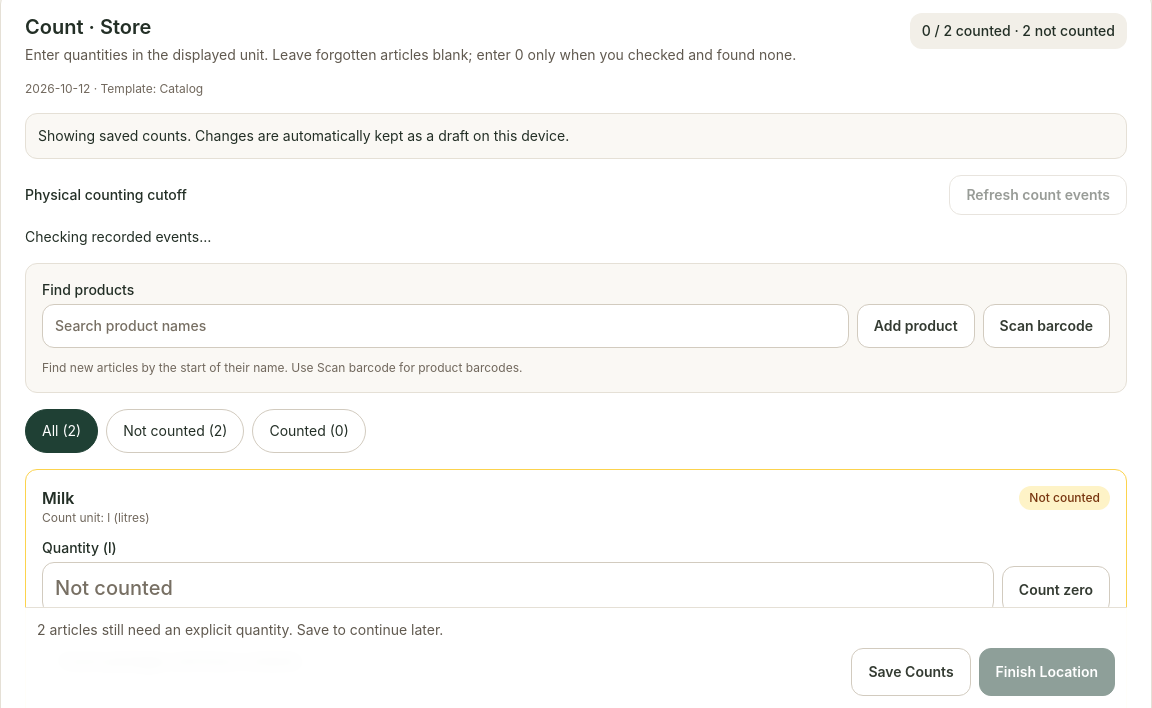
catalog physical counts and periodic inventory › keeps the first additional-product interaction after count hydration
The image size is (1152, 708).
Click the button "Add product" at (916, 326), box 857,304 -> 975,348
(page scrolled)
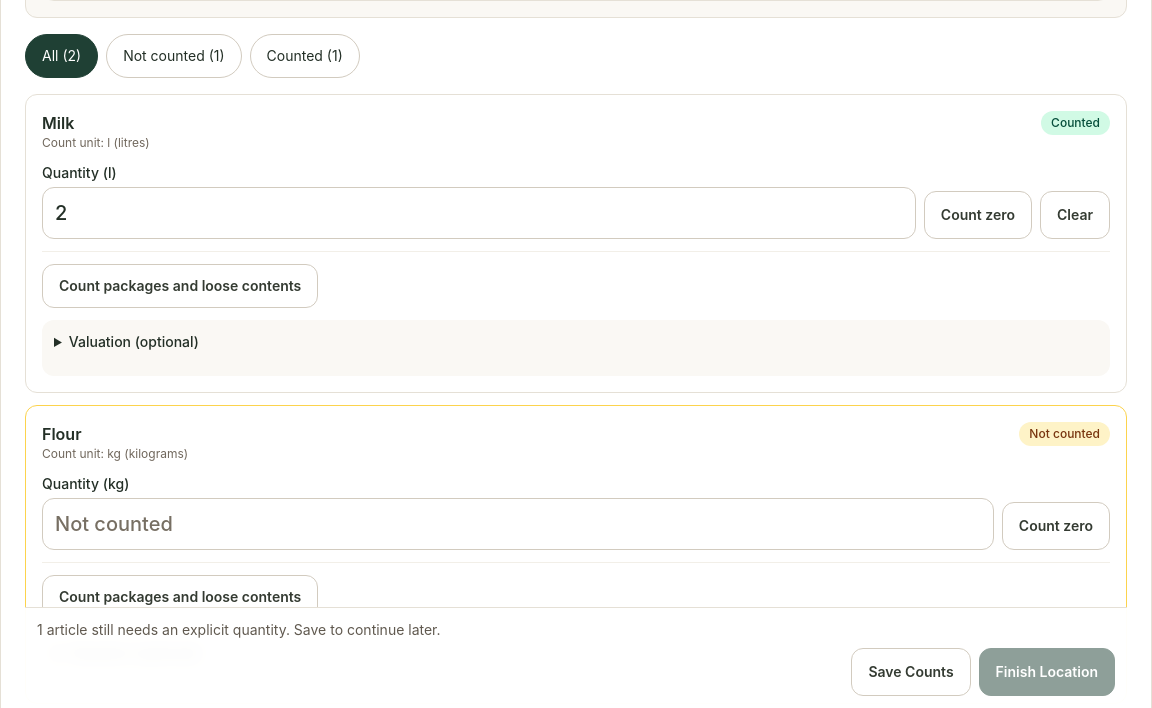
Result: the number field named "Count Milk" holds "2" at 42,187 -> 916,239
Click the heading "Valuation (optional)" at (134, 342), box 69,333 -> 199,350
(page scrolled)
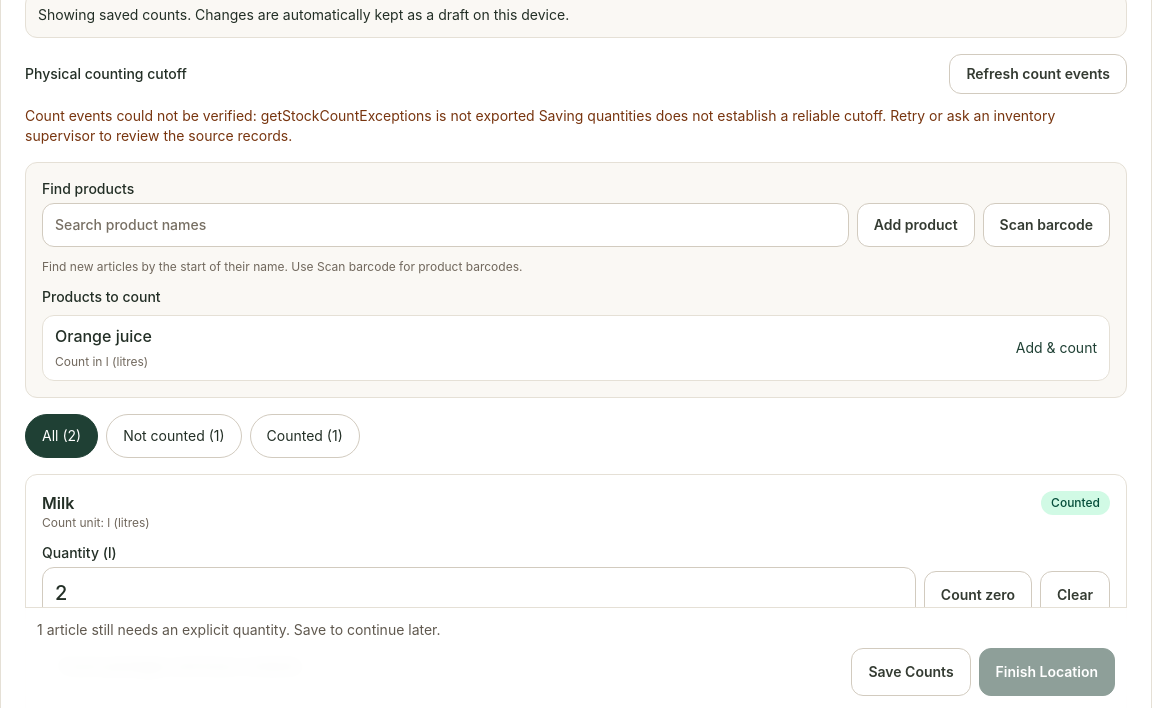
Click the button "Orange juice Count in l (litres) Add & count" at (104, 336), box 42,315 -> 1110,381
(page scrolled)
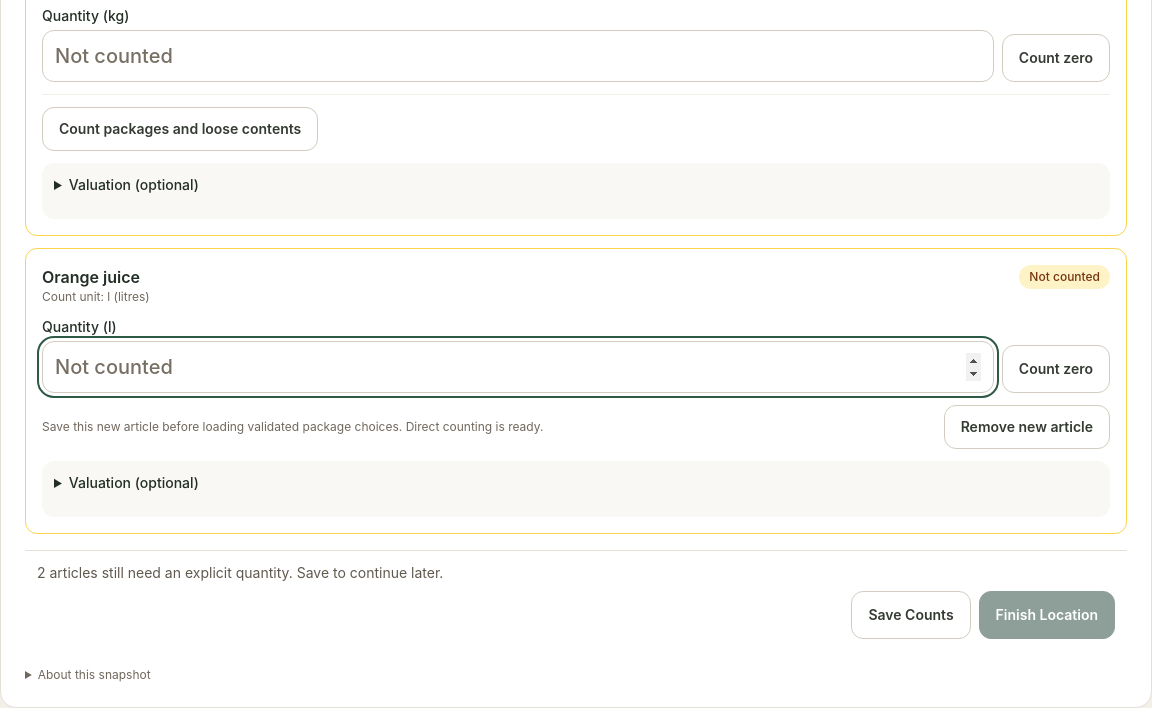
Result: the number field named "Count Orange juice" is shown at 42,341 -> 994,393
